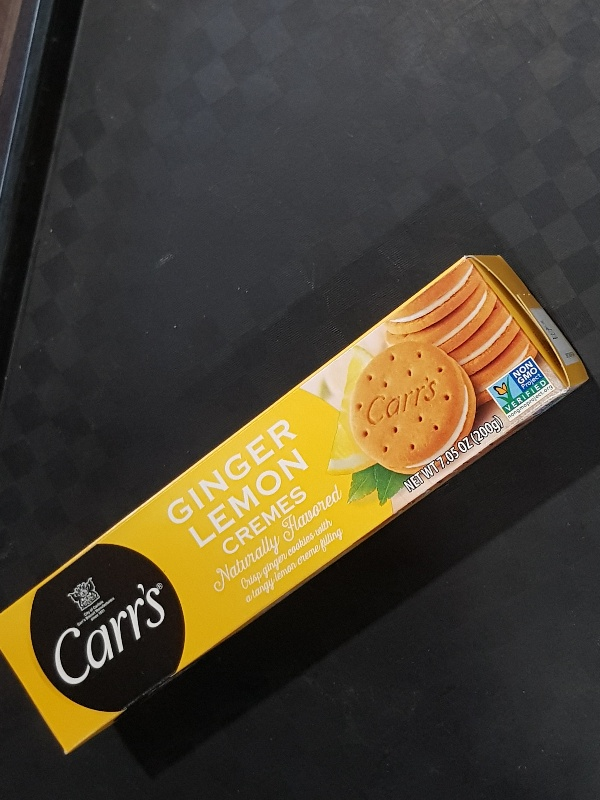Carr's Ginger Lemon Cremes: (2, 253, 590, 757)
